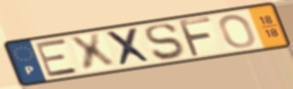E: (33, 37, 81, 79)
F: (176, 15, 215, 59)
O: (217, 13, 257, 49)
S: (143, 22, 186, 62)
X: (66, 32, 120, 74), (103, 26, 156, 68)
